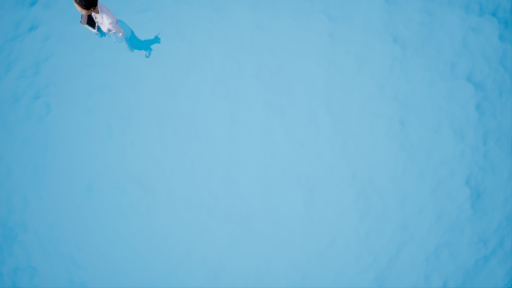person: (74, 1, 148, 64)
